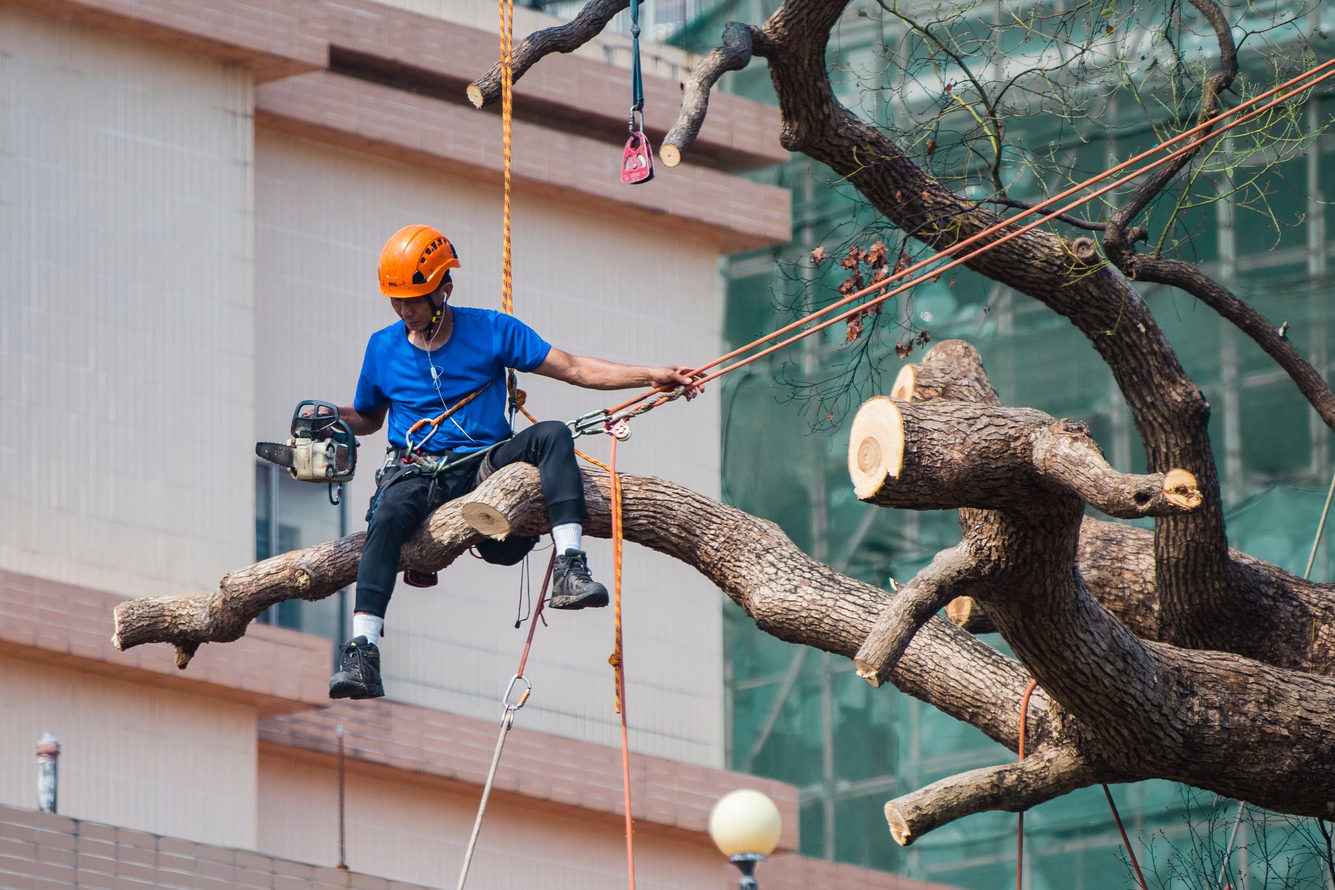Helmet: (331, 221, 485, 299)
